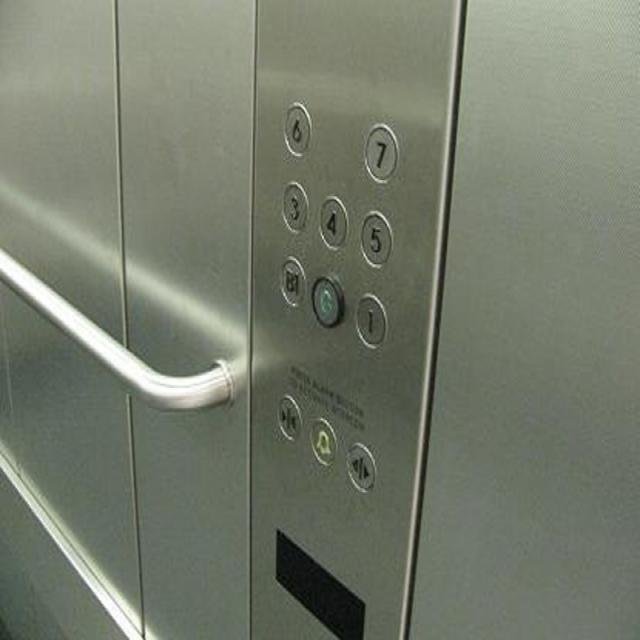1: (352, 289, 388, 351)
3: (279, 178, 309, 234)
4: (316, 192, 350, 249)
5: (355, 207, 393, 269)
6: (281, 99, 313, 157)
7: (361, 120, 398, 183)
B1: (277, 252, 307, 307)
G: (309, 270, 345, 330)
alarm: (307, 414, 339, 466)
close: (275, 391, 302, 441)
led: (274, 526, 365, 638)
open: (344, 440, 377, 493)
